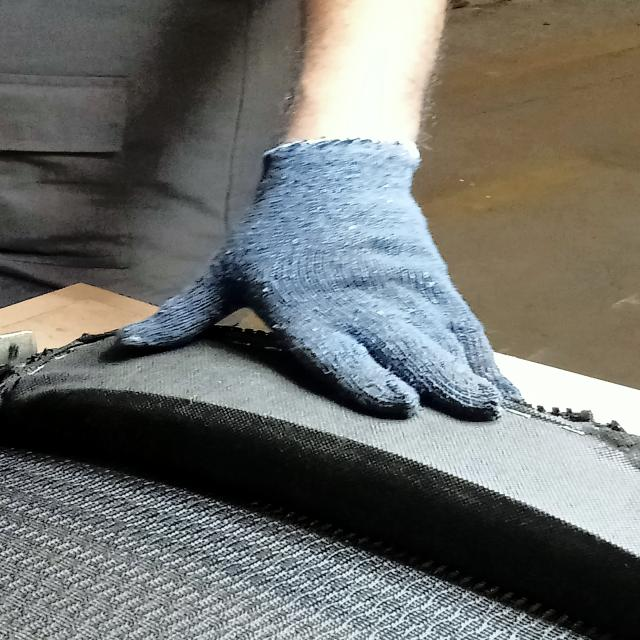Gloves-Detection: (124, 132, 526, 414)
